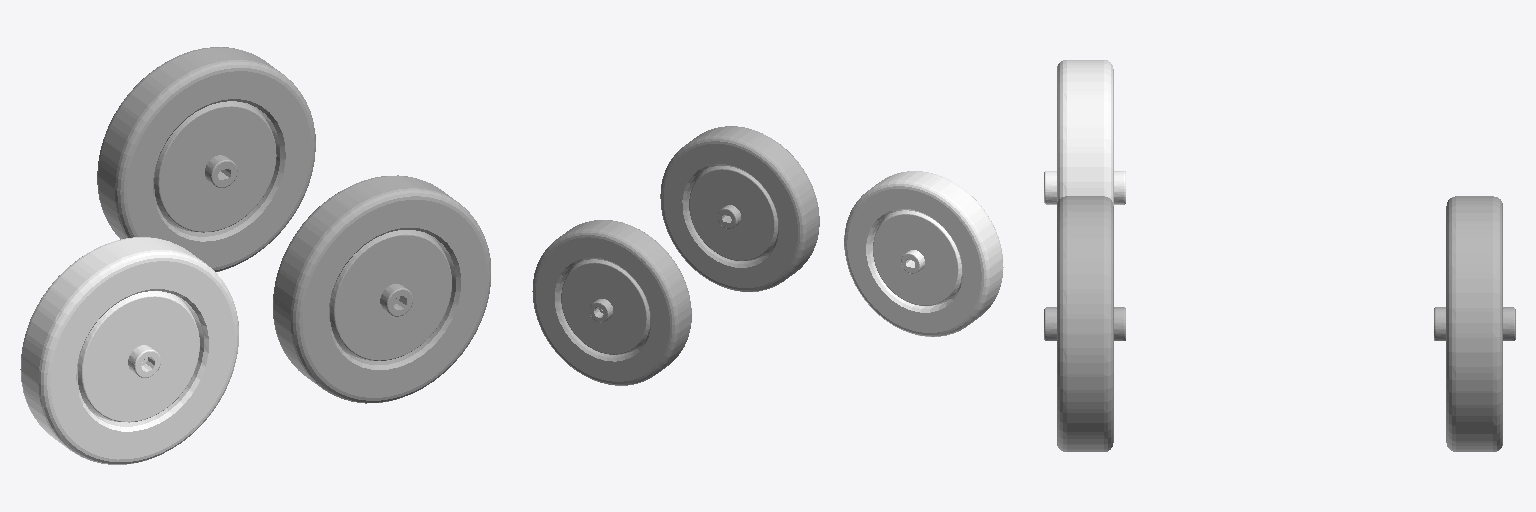
URDF robot description (mobile_robot_description):
<?xml version="1.0" encoding="utf-8"?>
<!-- This URDF was automatically created by SolidWorks to URDF Exporter! Originally created by [author] ([email redacted]) 
     Commit Version: 1.6.0-4-g7f85cfe  Build Version: 1.6.7995.38578
     For more information, please see http://wiki.ros.org/sw_urdf_exporter -->
<robot
  name="mobile_robot_description">
  <link
    name="base_link">
    <inertial>
      <origin
        xyz="0.0031627 -3.2246E-06 0.016178"
        rpy="0 0 0" />
      <mass
        value="0.51602" />
      <inertia
        ixx="0.00023754"
        ixy="-1.3514E-08"
        ixz="2.4906E-07"
        iyy="0.00043755"
        iyz="1.0012E-09"
        izz="0.00040613" />
    </inertial>
    <visual>
      <origin
        xyz="0 0 0"
        rpy="0 0 0" />
      <geometry>
        <mesh
          filename="package://mobile_robot_description/meshes/base_link.STL" />
      </geometry>
      <material
        name="">
        <color
          rgba="0.75294 0.75294 0.75294 1" />
      </material>
    </visual>
    <collision>
      <origin
        xyz="0 0 0"
        rpy="0 0 0" />
      <geometry>
        <mesh
          filename="package://mobile_robot_description/meshes/base_link.STL" />
      </geometry>
    </collision>
  </link>
  <link
    name="link_right_rear">
    <inertial>
      <origin
        xyz="0 -3.4694E-18 -0.0077492"
        rpy="0 0 0" />
      <mass
        value="0.079711" />
      <inertia
        ixx="3.3496E-05"
        ixy="3.3212E-22"
        ixz="2.428E-22"
        iyy="3.3496E-05"
        iyz="-7.5137E-23"
        izz="6.3285E-05" />
    </inertial>
    <visual>
      <origin
        xyz="0 0 0"
        rpy="0 0 0" />
      <geometry>
        <mesh
          filename="package://mobile_robot_description/meshes/link_right_rear.STL" />
      </geometry>
      <material
        name="">
        <color
          rgba="0.75294 0.75294 0.75294 1" />
      </material>
    </visual>
    <collision>
      <origin
        xyz="0 0 0"
        rpy="0 0 0" />
      <geometry>
        <mesh
          filename="package://mobile_robot_description/meshes/link_right_rear.STL" />
      </geometry>
    </collision>
  </link>
  <joint
    name="joint_right_rear"
    type="continuous">
    <origin
      xyz="0.048538 0.06785 0.01615"
      rpy="1.5708 0 -3.1416" />
    <parent
      link="base_link" />
    <child
      link="link_right_rear" />
    <axis
      xyz="0 0 -1" />
    <limit
      effort="20"
      velocity="0.5" />
  </joint>
  <link
    name="link_right_back">
    <inertial>
      <origin
        xyz="1.3878E-17 -3.4694E-18 -0.0077492"
        rpy="0 0 0" />
      <mass
        value="0.079711" />
      <inertia
        ixx="3.3496E-05"
        ixy="2.2481E-22"
        ixz="8.5588E-23"
        iyy="3.3496E-05"
        iyz="6.7653E-23"
        izz="6.3285E-05" />
    </inertial>
    <visual>
      <origin
        xyz="0 0 0"
        rpy="0 0 0" />
      <geometry>
        <mesh
          filename="package://mobile_robot_description/meshes/link_right_back.STL" />
      </geometry>
      <material
        name="">
        <color
          rgba="0.75294 0.75294 0.75294 1" />
      </material>
    </visual>
    <collision>
      <origin
        xyz="0 0 0"
        rpy="0 0 0" />
      <geometry>
        <mesh
          filename="package://mobile_robot_description/meshes/link_right_back.STL" />
      </geometry>
    </collision>
  </link>
  <joint
    name="joint_right_back"
    type="continuous">
    <origin
      xyz="-0.051162 0.06785 0.01615"
      rpy="1.5708 0 3.1416" />
    <parent
      link="base_link" />
    <child
      link="link_right_back" />
    <axis
      xyz="0 0 -1" />
    <limit
      effort="20"
      velocity="0.5" />
  </joint>
  <link
    name="link_left_rear">
    <inertial>
      <origin
        xyz="0 -3.4694E-18 -0.0077492"
        rpy="0 0 0" />
      <mass
        value="0.079711" />
      <inertia
        ixx="3.3496E-05"
        ixy="2.2481E-22"
        ixz="8.5595E-23"
        iyy="3.3496E-05"
        iyz="6.7668E-23"
        izz="6.3285E-05" />
    </inertial>
    <visual>
      <origin
        xyz="0 0 0"
        rpy="0 0 0" />
      <geometry>
        <mesh
          filename="package://mobile_robot_description/meshes/link_left_rear.STL" />
      </geometry>
      <material
        name="">
        <color
          rgba="0.75294 0.75294 0.75294 1" />
      </material>
    </visual>
    <collision>
      <origin
        xyz="0 0 0"
        rpy="0 0 0" />
      <geometry>
        <mesh
          filename="package://mobile_robot_description/meshes/link_left_rear.STL" />
      </geometry>
    </collision>
  </link>
  <joint
    name="joint_left_rear"
    type="continuous">
    <origin
      xyz="0.048538 -0.06785 0.01615"
      rpy="1.5708 0 0" />
    <parent
      link="base_link" />
    <child
      link="link_left_rear" />
    <axis
      xyz="0 0 -1" />
    <limit
      effort="20"
      velocity="0.5" />
  </joint>
  <link
    name="link_left_back">
    <inertial>
      <origin
        xyz="0 0 0"
        rpy="0 0 0" />
      <mass
        value="0" />
      <inertia
        ixx="0"
        ixy="0"
        ixz="0"
        iyy="0"
        iyz="0"
        izz="0" />
    </inertial>
    <visual>
      <origin
        xyz="0 0 0"
        rpy="0 0 0" />
      <geometry>
        <mesh
          filename="package://mobile_robot_description/meshes/link_left_back.STL" />
      </geometry>
      <material
        name="">
        <color
          rgba="1 1 1 1" />
      </material>
    </visual>
    <collision>
      <origin
        xyz="0 0 0"
        rpy="0 0 0" />
      <geometry>
        <mesh
          filename="package://mobile_robot_description/meshes/link_left_back.STL" />
      </geometry>
    </collision>
  </link>
  <joint
    name="joint_left_back"
    type="continuous">
    <origin
      xyz="-0.051162 -0.06785 0.01615"
      rpy="1.5708 0 0" />
    <parent
      link="base_link" />
    <child
      link="link_left_back" />
    <axis
      xyz="0 0 -1" />
    <limit
      effort="20"
      velocity="0.5" />
  </joint>
</robot>

--- Facts derived from the render (not from the file) ---
3 views of the same robot in one strip: view 1: azimuth 30°, elevation 25°; view 2: azimuth 150°, elevation 25°; view 3: azimuth 270°, elevation 25° (orthographic).
Robot: mobile_robot_description — 5 links, 4 joints (4 continuous); root link base_link; default pose: every joint at zero.
Visible links, largest first — view 1: link_left_rear, link_left_back, link_right_rear; view 2: link_left_back, link_left_rear, link_right_rear; view 3: link_left_rear, link_right_rear, link_left_back.
Boxes of the visible links, x1,y1,x2,y2 form: link_left_rear: (273,175,490,403); link_left_back: (20,237,238,464); link_right_rear: (97,47,315,271); link_left_back: (844,171,1003,336); link_left_rear: (660,126,819,291); link_right_rear: (532,220,691,385); link_left_rear: (1044,196,1125,451); link_right_rear: (1434,196,1515,451); link_left_back: (1044,60,1125,205).
Bounding box of the posed robot: 0.1787 × 0.1453 × 0.079 m (x, y, z).
Meshes: 5 distinct files referenced, 3 mesh visuals loaded (3 binary STL); not drawn: 2 (reference not matched to a file when rendering).